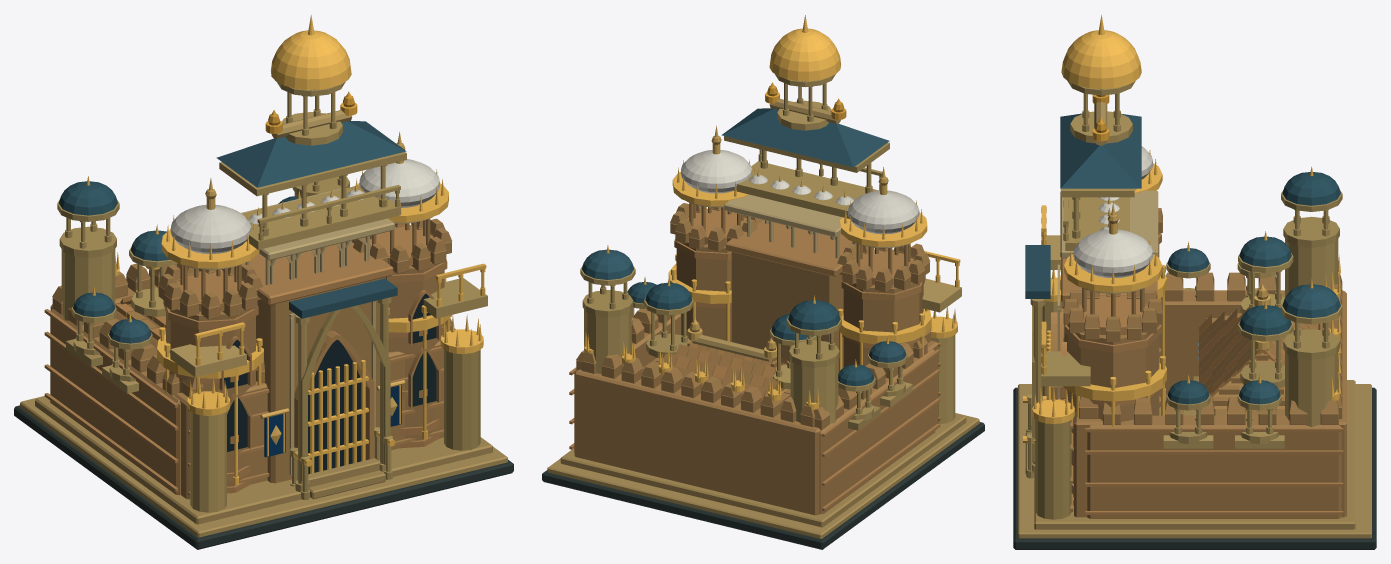
3 renders of one model, left to right at view 1: azimuth 30°, elevation 25°; view 2: azimuth 150°, elevation 25°; view 3: azimuth 270°, elevation 25°, orthographic. The views are drawn at different scales.
Parts seen in each view (by area): view 1: barracks_L15_0, barracks_L15_1; view 2: barracks_L15_0, barracks_L15_1; view 3: barracks_L15_0, barracks_L15_1.
Boxes of the visible parts, bbox=[...] form: barracks_L15_0: bbox=[14, 82, 513, 549]; barracks_L15_1: bbox=[86, 15, 486, 485]; barracks_L15_0: bbox=[542, 74, 984, 549]; barracks_L15_1: bbox=[584, 15, 960, 410]; barracks_L15_0: bbox=[1013, 81, 1376, 549]; barracks_L15_1: bbox=[1023, 15, 1340, 442].
Bounding box in the file's own units: 5.6 × 7.83 × 5.6.
